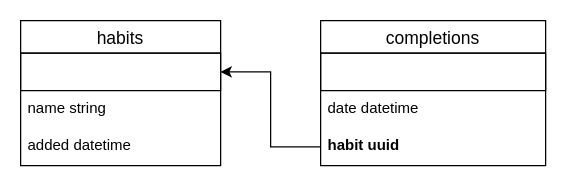
Some shapes in this 566 by 186 pixel diagram are drawn without their labels. Here are the shapes that lost their labels. From the top down, the centre of each, then its label:
At pixel 120 71: "_id uuid".
At pixel 432 71: "_id ObjectID auto-generated".
